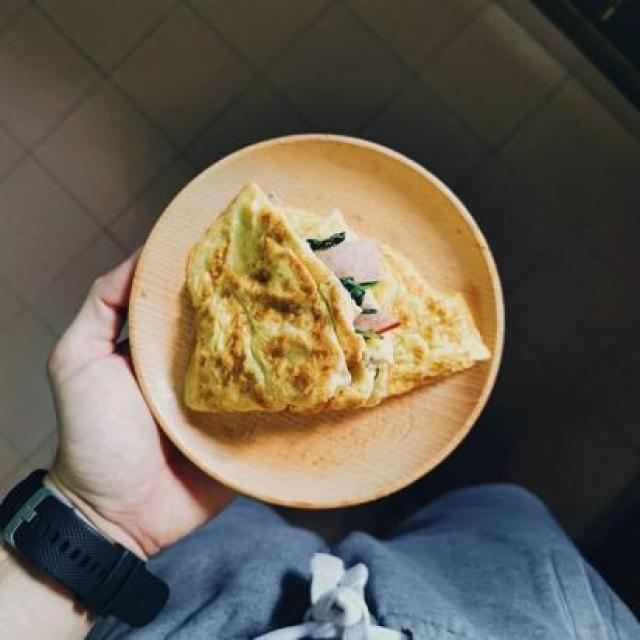omelette: (200, 203, 376, 434)
